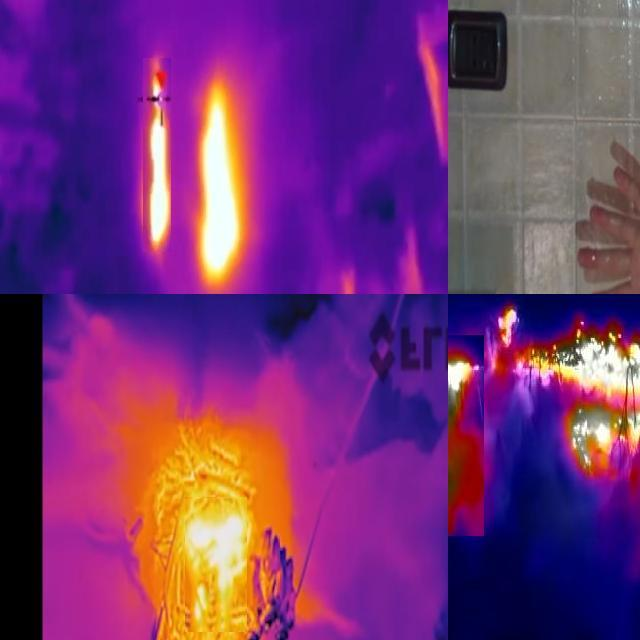fire: (518, 295, 640, 540), (199, 69, 251, 295), (187, 498, 249, 633), (449, 336, 485, 537), (144, 59, 172, 253), (488, 297, 519, 407)
